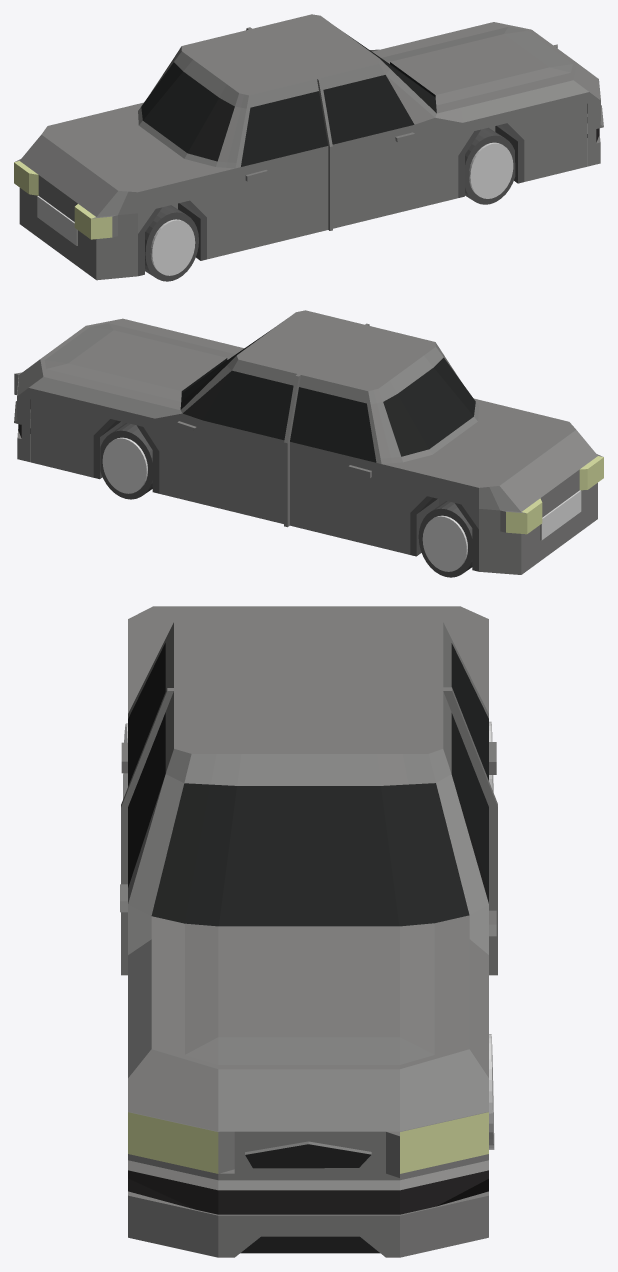
File: car1.fbx
3 renders of one model, top to bottom at view 1: azimuth 30°, elevation 25°; view 2: azimuth 150°, elevation 25°; view 3: azimuth 270°, elevation 25°, orthographic. The views are drawn at different scales.
Visible parts, largest first — view 1: Cylinder.006; view 2: Cylinder.006; view 3: Cylinder.006.
Boxes of the visible parts, <box> form: Cylinder.006: <box>14,14,603,281</box>; Cylinder.006: <box>14,310,603,577</box>; Cylinder.006: <box>120,606,497,1257</box>.
Size of the model in its own units: 1260 by 362 by 391.
